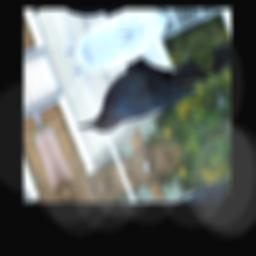Crow: (64, 33, 214, 148)
